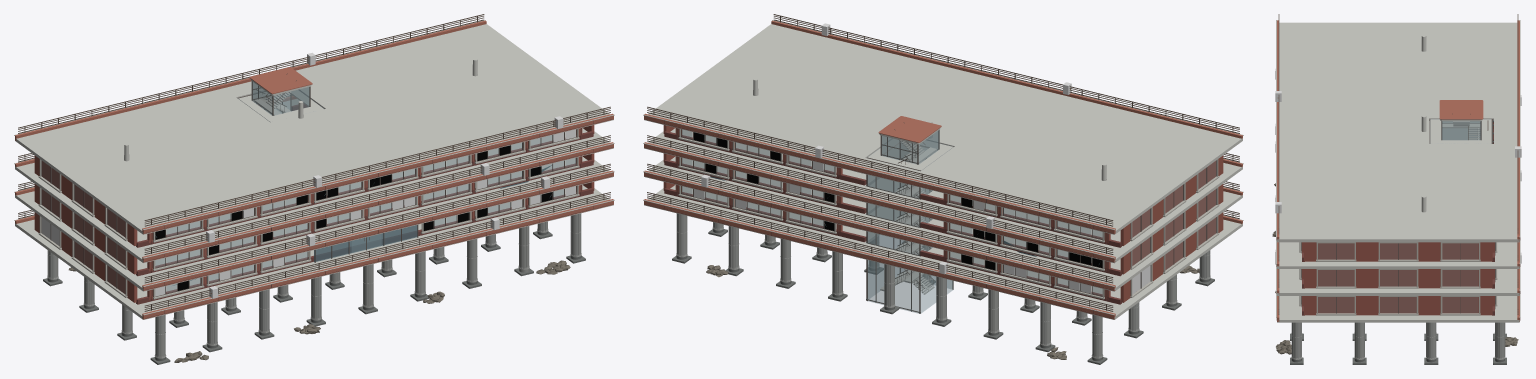
File: 教学楼_废墟风格(1).fbx
3 views of the same model, side by side, from view 1: azimuth 30°, elevation 25°; view 2: azimuth 150°, elevation 25°; view 3: azimuth 270°, elevation 25° (orthographic). The views are drawn at different scales.
Parts seen in each view (by area): view 1: 第1层白色楼板前带, 栏杆_黑色金属_合并, 前立面第1道陶红挑檐, 前窗玻璃F1-1-2, 架空层圆柱 R4--31, GAME_DETAIL_窗洞暖灰石材窗套与凸窗台, 西端面F1红色基墙, GAME_DETAIL_挑檐顶部连续暖白压边, GAME_DETAIL_前排新补柱竖肋, 后立面第4道陶红挑檐, GAME_DETAIL_挑檐立面阴影线与分格缝, 前立面F2窗下墙带 (+12 smaller); view 2: 第1层白色楼板前带, 栏杆_黑色金属_合并, 后立面第4道陶红挑檐, 后窗玻璃F1-1-1, 架空层圆柱 R4--31, 西端面F1红色基墙, GAME_DETAIL_窗洞暖灰石材窗套与凸窗台, 玻璃楼梯塔后侧玻璃, GAME_DETAIL_挑檐顶部连续暖白压边, 前立面第1道陶红挑檐, GAME_DETAIL_前排新补柱竖肋, GAME_DETAIL_挑檐立面阴影线与分格缝 (+20 smaller); view 3: 第1层白色楼板前带, 西端面F1红色基墙, GAME_DETAIL_窗洞暖灰石材窗套与凸窗台, 架空层圆柱 R4--31, 栏杆_黑色金属_合并, 屋顶小楼梯间顶沿, 后立面第4道陶红挑檐, 屋顶小楼梯间侧玻璃.001, GAME_DETAIL_前排新补柱竖肋, 东端窗玻璃F2-3, 第4层白色楼板后阳台中段, 东端窗玻璃F3-3 (+14 smaller).
Boxes of the visible parts, <box> form: 第1层白色楼板前带: <box>15,24,613,319</box>; 栏杆_黑色金属_合并: <box>18,14,610,311</box>; 前立面第1道陶红挑檐: <box>142,113,613,319</box>; 前窗玻璃F1-1-2: <box>155,135,575,293</box>; 架空层圆柱 R4--31: <box>47,213,580,361</box>; GAME_DETAIL_窗洞暖灰石材窗套与凸窗台: <box>38,129,579,299</box>; 西端面F1红色基墙: <box>34,125,594,302</box>; GAME_DETAIL_挑檐顶部连续暖白压边: <box>14,20,614,315</box>; GAME_DETAIL_前排新补柱竖肋: <box>48,213,581,357</box>; 后立面第4道陶红挑檐: <box>15,20,486,223</box>; GAME_DETAIL_挑檐立面阴影线与分格缝: <box>145,119,612,318</box>; 前立面F2窗下墙带: <box>136,159,593,276</box>; 第1层白色楼板前带: <box>644,24,1242,319</box>; 栏杆_黑色金属_合并: <box>647,14,1239,311</box>; 后立面第4道陶红挑檐: <box>644,113,1115,319</box>; 后窗玻璃F1-1-1: <box>682,129,1102,295</box>; 架空层圆柱 R4--31: <box>677,213,1210,361</box>; 西端面F1红色基墙: <box>663,125,1223,302</box>; GAME_DETAIL_窗洞暖灰石材窗套与凸窗台: <box>678,129,1219,299</box>; 玻璃楼梯塔后侧玻璃: <box>867,175,918,313</box>; GAME_DETAIL_挑檐顶部连续暖白压边: <box>643,20,1243,315</box>; 前立面第1道陶红挑檐: <box>771,20,1242,224</box>; GAME_DETAIL_前排新补柱竖肋: <box>676,213,1209,357</box>; GAME_DETAIL_挑檐立面阴影线与分格缝: <box>645,119,1112,318</box>; 第1层白色楼板前带: <box>1277,22,1519,322</box>; 西端面F1红色基墙: <box>1304,242,1492,315</box>; GAME_DETAIL_窗洞暖灰石材窗套与凸窗台: <box>1299,242,1497,315</box>; 架空层圆柱 R4--31: <box>1292,322,1504,362</box>; 栏杆_黑色金属_合并: <box>1278,14,1518,314</box>; 屋顶小楼梯间顶沿: <box>1439,100,1483,119</box>; 后立面第4道陶红挑檐: <box>1517,20,1519,321</box>; 屋顶小楼梯间侧玻璃.001: <box>1442,121,1480,139</box>; GAME_DETAIL_前排新补柱竖肋: <box>1291,322,1505,358</box>; 东端窗玻璃F2-3: <box>1442,270,1478,286</box>; 第4层白色楼板后阳台中段: <box>1494,118,1517,143</box>; 东端窗玻璃F3-3: <box>1442,243,1478,259</box>.
Size of the model in its own units: 7032 by 2380 by 3407.
